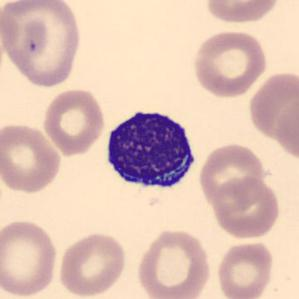Lymphocyte: (99, 102, 202, 195)
RBC: (0, 0, 85, 90), (133, 226, 214, 298), (190, 28, 270, 99), (196, 141, 268, 208), (56, 230, 128, 297), (0, 218, 60, 298), (210, 174, 282, 240), (0, 120, 63, 195), (41, 87, 107, 156), (246, 68, 298, 147), (215, 238, 275, 299), (204, 0, 282, 26)
